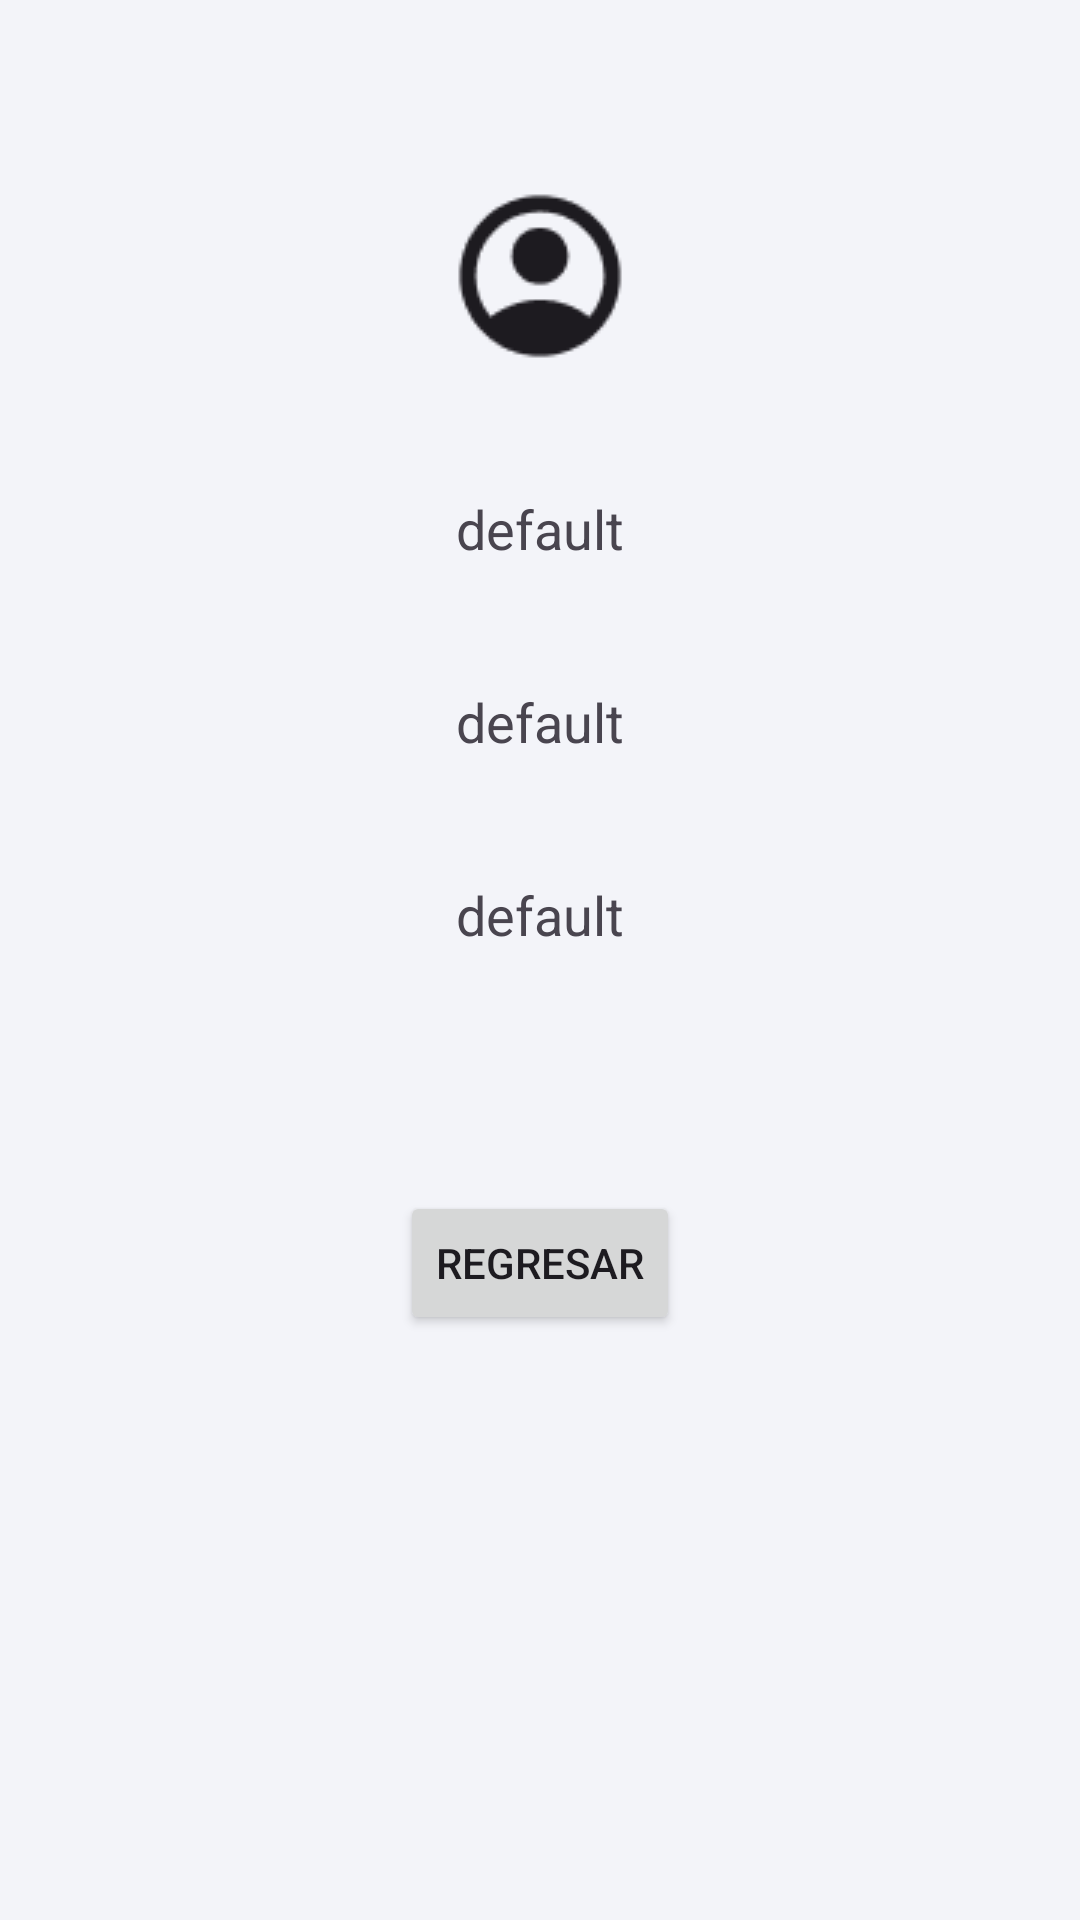

Named icons in this screenshot (1080px x 1920px) and their centers, [x,y]:
user: [540,276]
